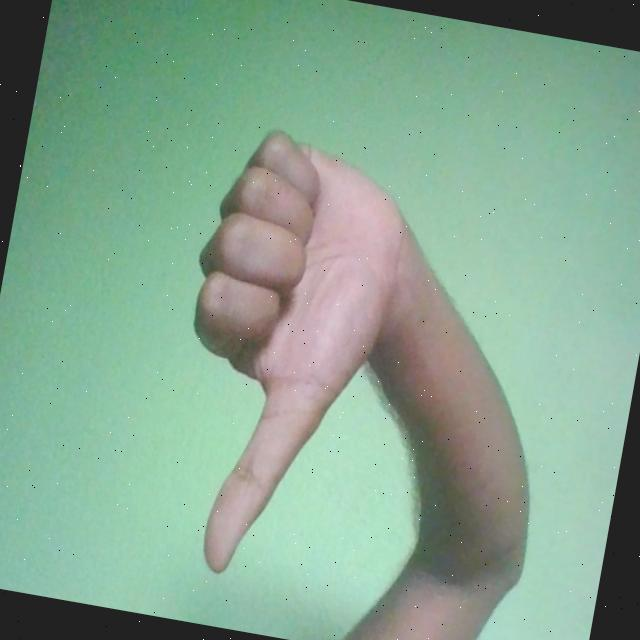Dislike: (144, 118, 430, 598)
